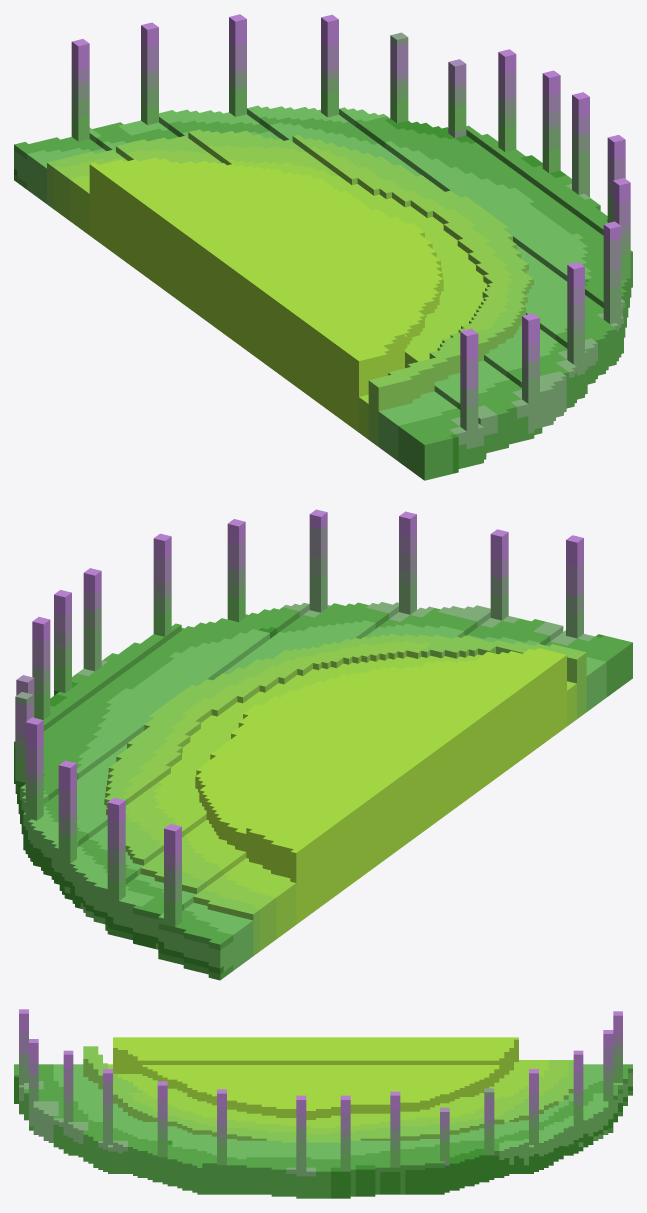
Rendered from trap_L.FBX.
3 views of the same model, one above another, from view 1: azimuth 30°, elevation 25°; view 2: azimuth 150°, elevation 25°; view 3: azimuth 270°, elevation 25° (orthographic). The views are drawn at different scales.
Visible parts, largest first — view 1: default042; view 2: default042; view 3: default042.
Boxes of the visible parts, x1,y1,x2,y2 form: default042: (14, 14, 632, 480); default042: (14, 509, 632, 980); default042: (14, 1009, 632, 1198).
Bounding box in the file's own units: 787 × 343 × 1586.
